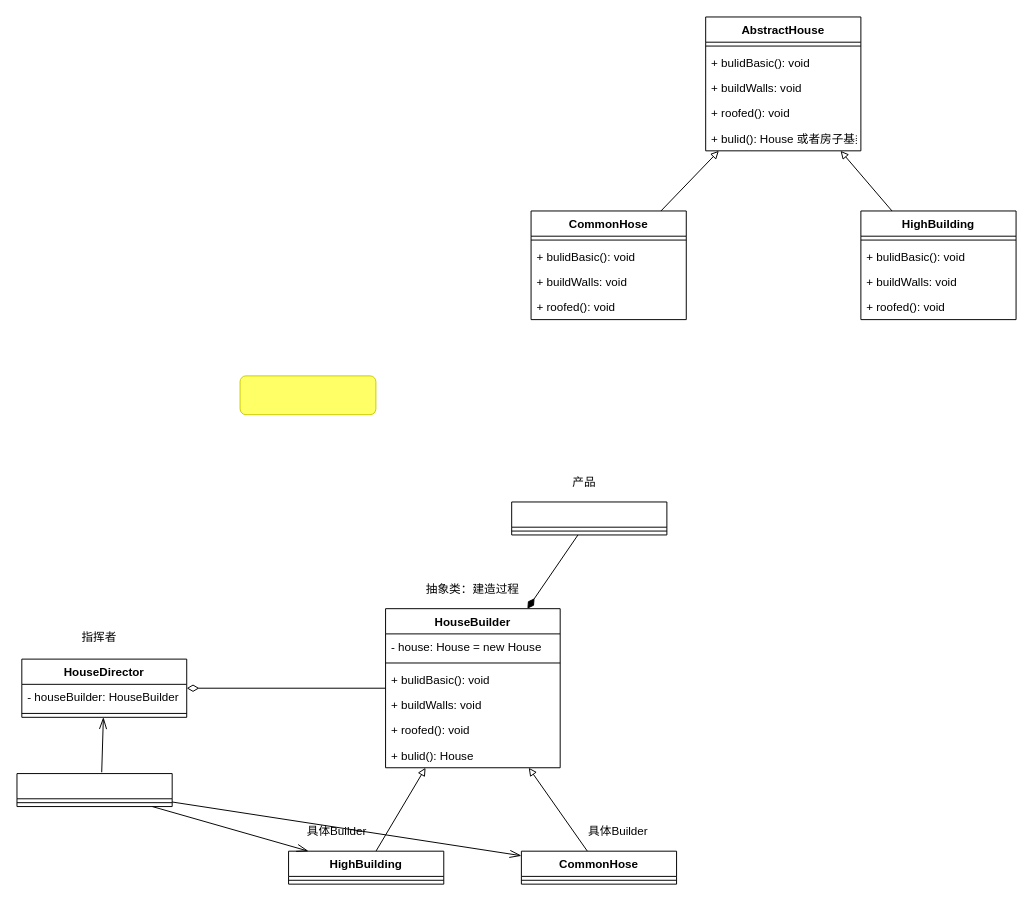
This 1033x901 diagram has some shape labels left out. The centre of each missing label's shape, as x and y in pixels:
"Client" goes at [94,790].
"House" goes at [589,518].
"建造者模式" goes at [307,395].
